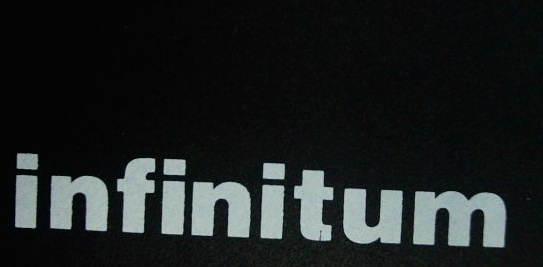BK_infinitum: (6, 153, 510, 248)
